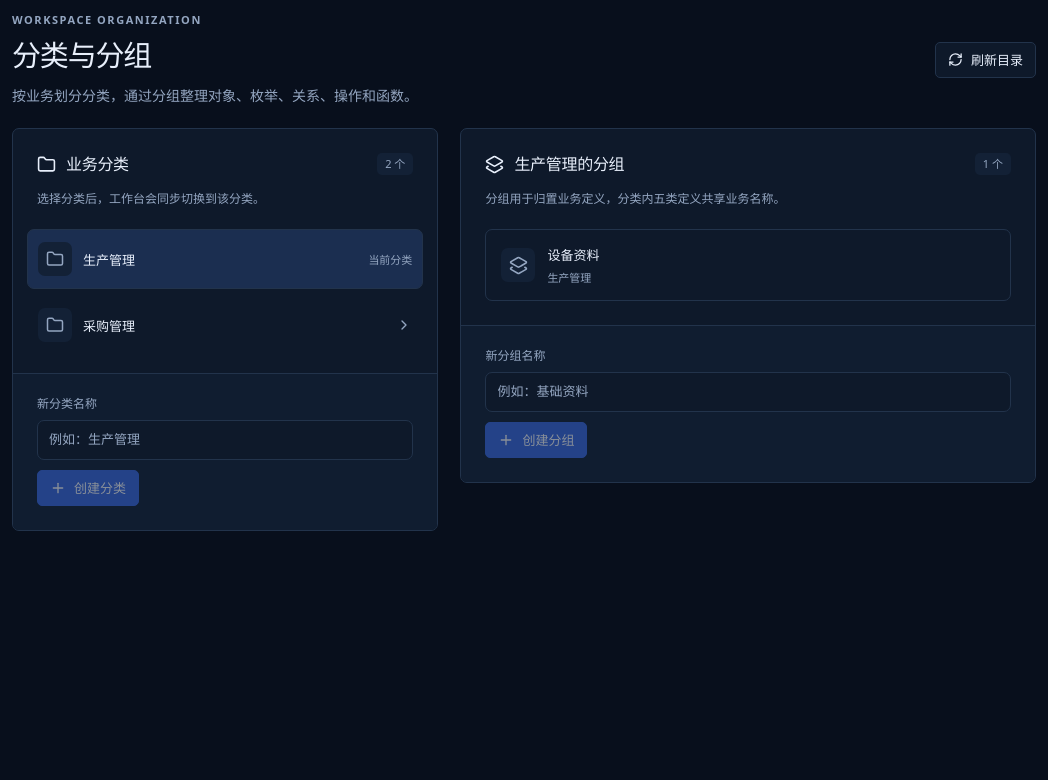
Scenario: classification and definition-group management › clears cached groups on a failed reload and preserves a creation draft on a business conflict
Check: the text "设备资料" is shown, box [547,245,599,264]
Click the button "刷新目录" at coordinates (986, 60), box [935,42,1036,78]
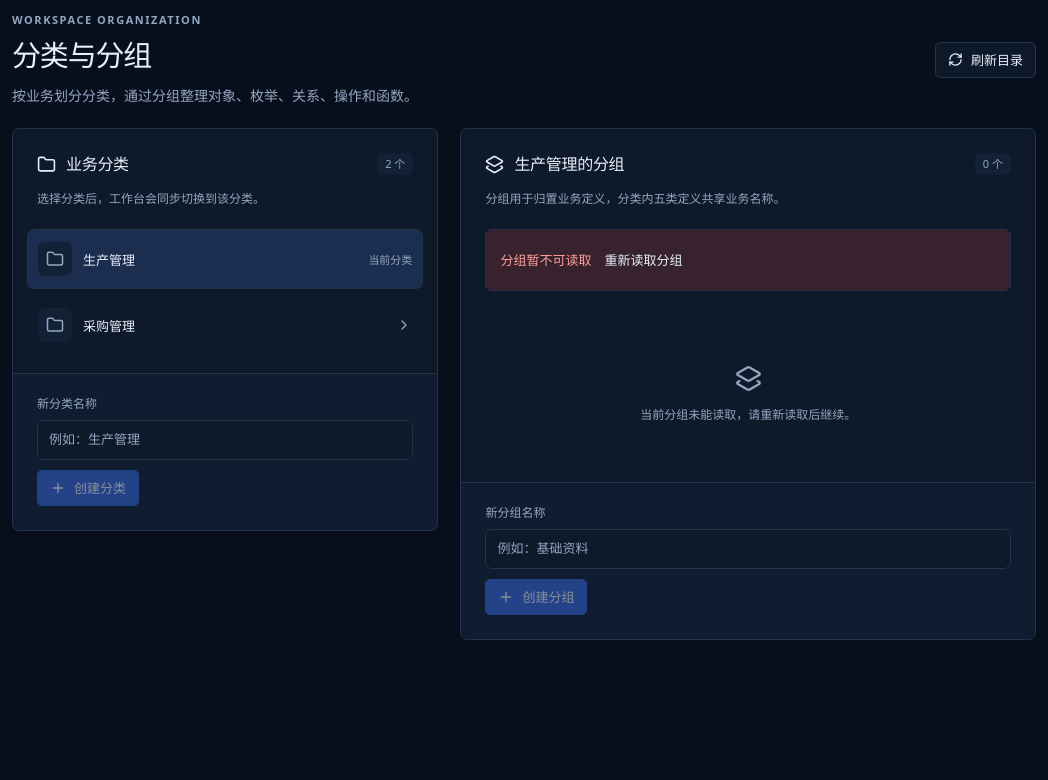
Check: the text "分组暂不可读取" is shown, box [500,251,591,269]
Check: the text "设备资料" is gone
Type "重复分组" into the field labelled "新分组名称" at coordinates (748, 549), box [485,529,1011,569]
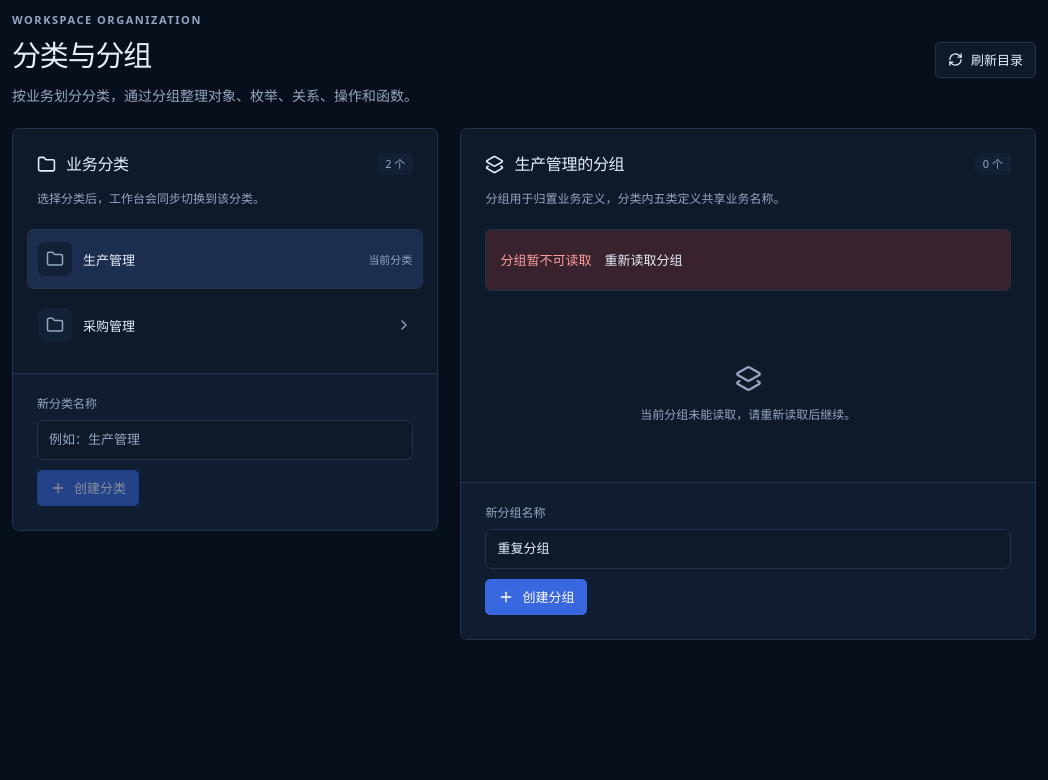
Click the button "创建分组" at coordinates (536, 597), box [485,579,587,615]
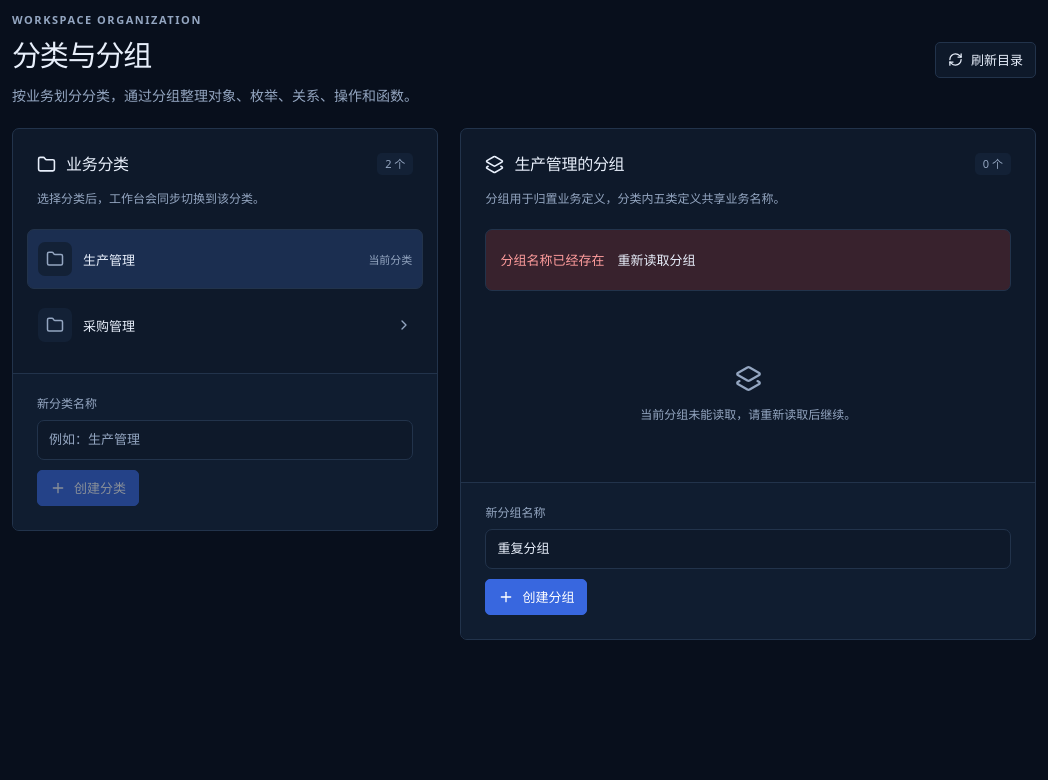
Check: the text "分组名称已经存在" is shown, box [500,251,604,269]
